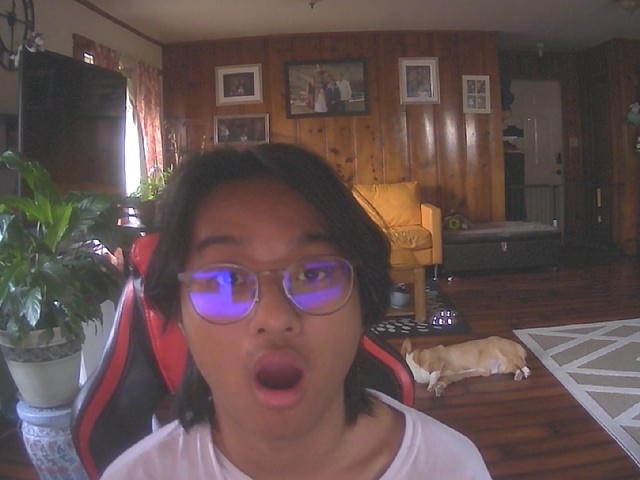fear: (174, 173, 366, 438)
